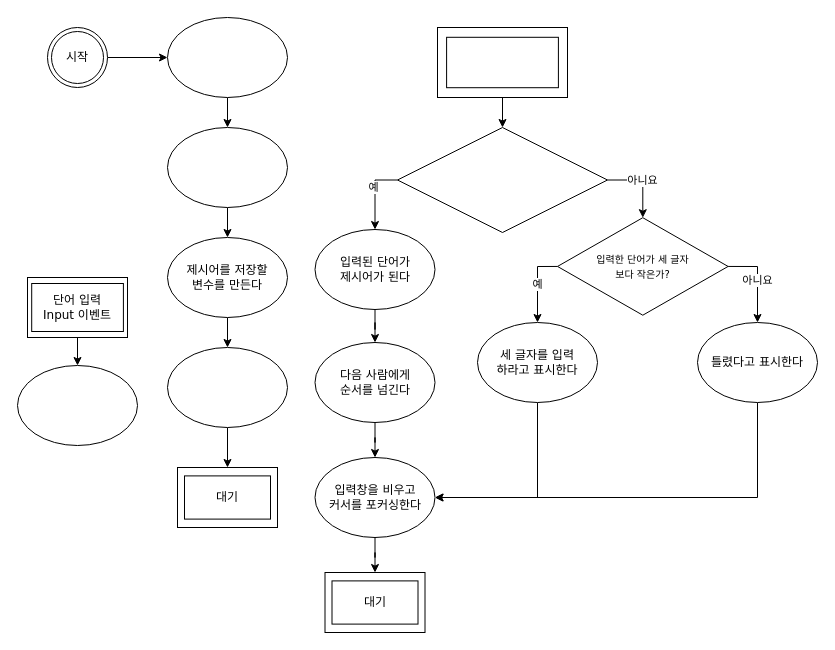
Some shapes in this 835 by 650 pixel diagram are drawn without their labels. Each missing label, with the centre of its shape:
단어를 저장할 변수를 만든다: the point at 227,387
몇 명이 참가하는지 입력 받는다: the point at 227,57
입력 버튼 클릭: the point at 502,62
입력한 단어가 세 글자이면서 제시어가 비어있거나 입력한 단어가 올바른가?: the point at 502,179
입력한 단어를 저장한다: the point at 77,405
참가자 순서를 정한다: the point at 227,167
